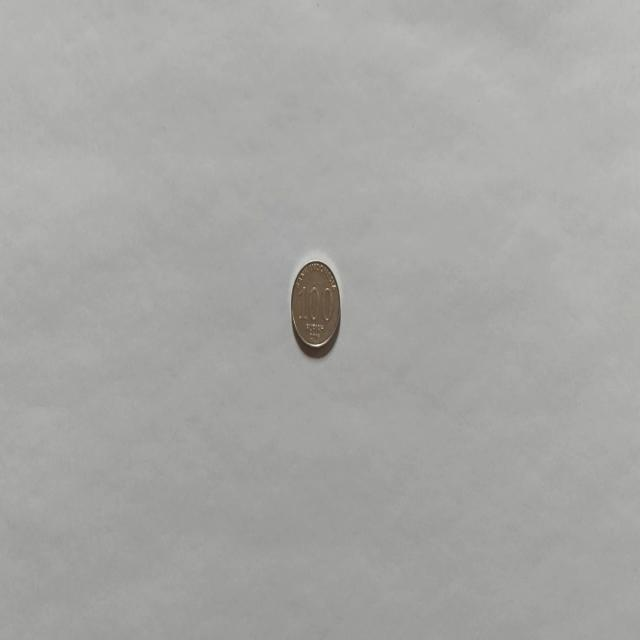seratus rupiah: (289, 258, 341, 356)
